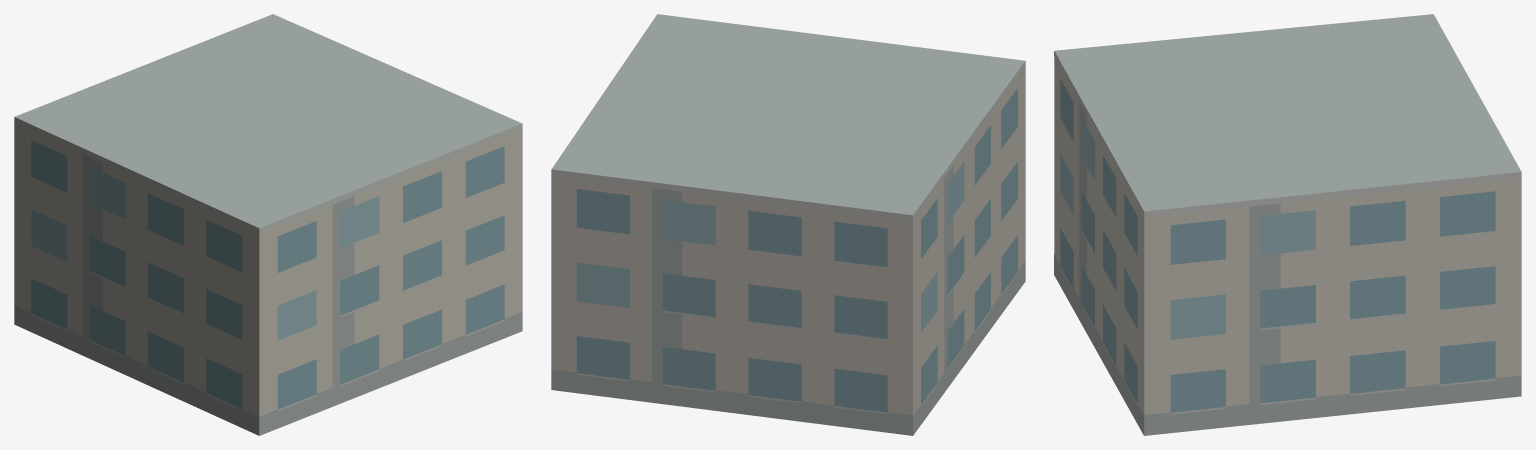
Rendered from survey-upis-32512546.glb.
3 renders of one model, left to right at view 1: azimuth 30°, elevation 25°; view 2: azimuth 150°, elevation 25°; view 3: azimuth 270°, elevation 25°, orthographic. The views are drawn at different scales.
Parts seen in each view (by area): view 1: survey-upis-32512546.tmp; view 2: survey-upis-32512546.tmp; view 3: survey-upis-32512546.tmp.
Boxes of the visible parts, x1,y1,x2,y2 form: survey-upis-32512546.tmp: (14,14,522,435); survey-upis-32512546.tmp: (551,14,1025,435); survey-upis-32512546.tmp: (1054,14,1521,435).
Bounding box in the file's own units: 17.28 × 9.15 × 17.29.
